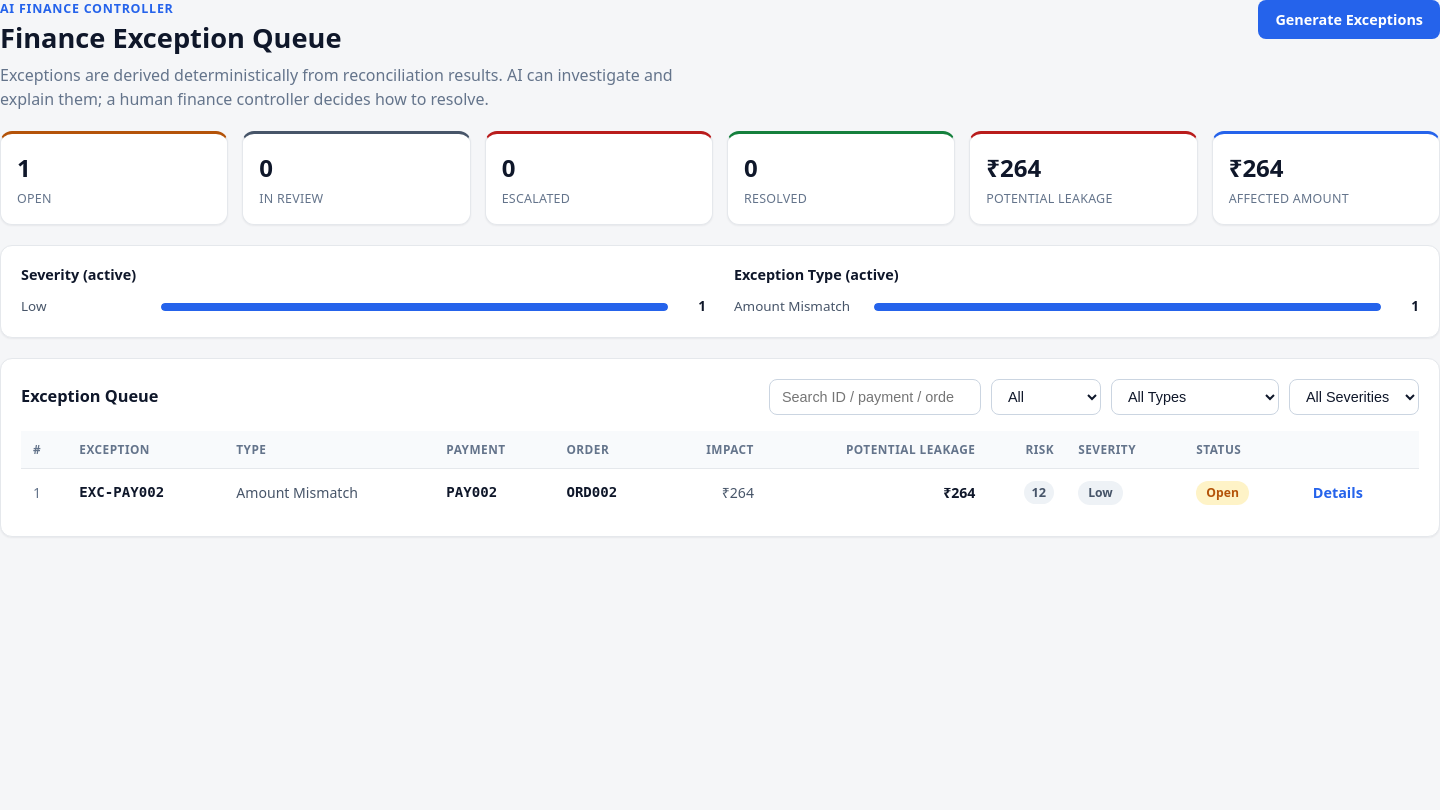
Scenario: Finance Exception Queue › runs AI investigation and shows the advisory recommendation
Expected: the column heading "EXC-PAY002" is shown, left=67, top=469, right=224, bottom=516
Click the button "Details" at point(1338, 493), box left=1307, top=479, right=1369, bottom=506
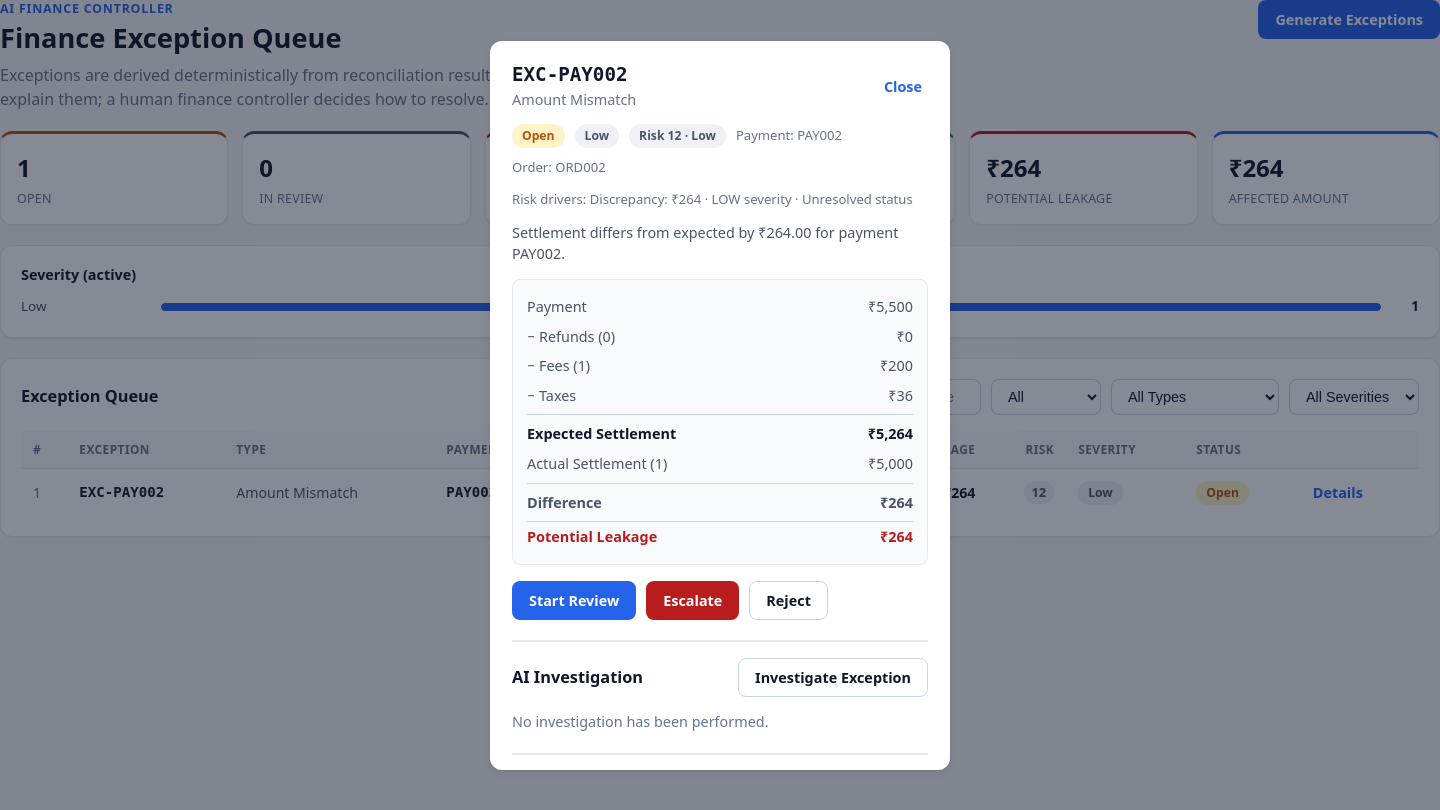
Click the button "Investigate Exception" at point(833, 677), box left=738, top=658, right=928, bottom=697
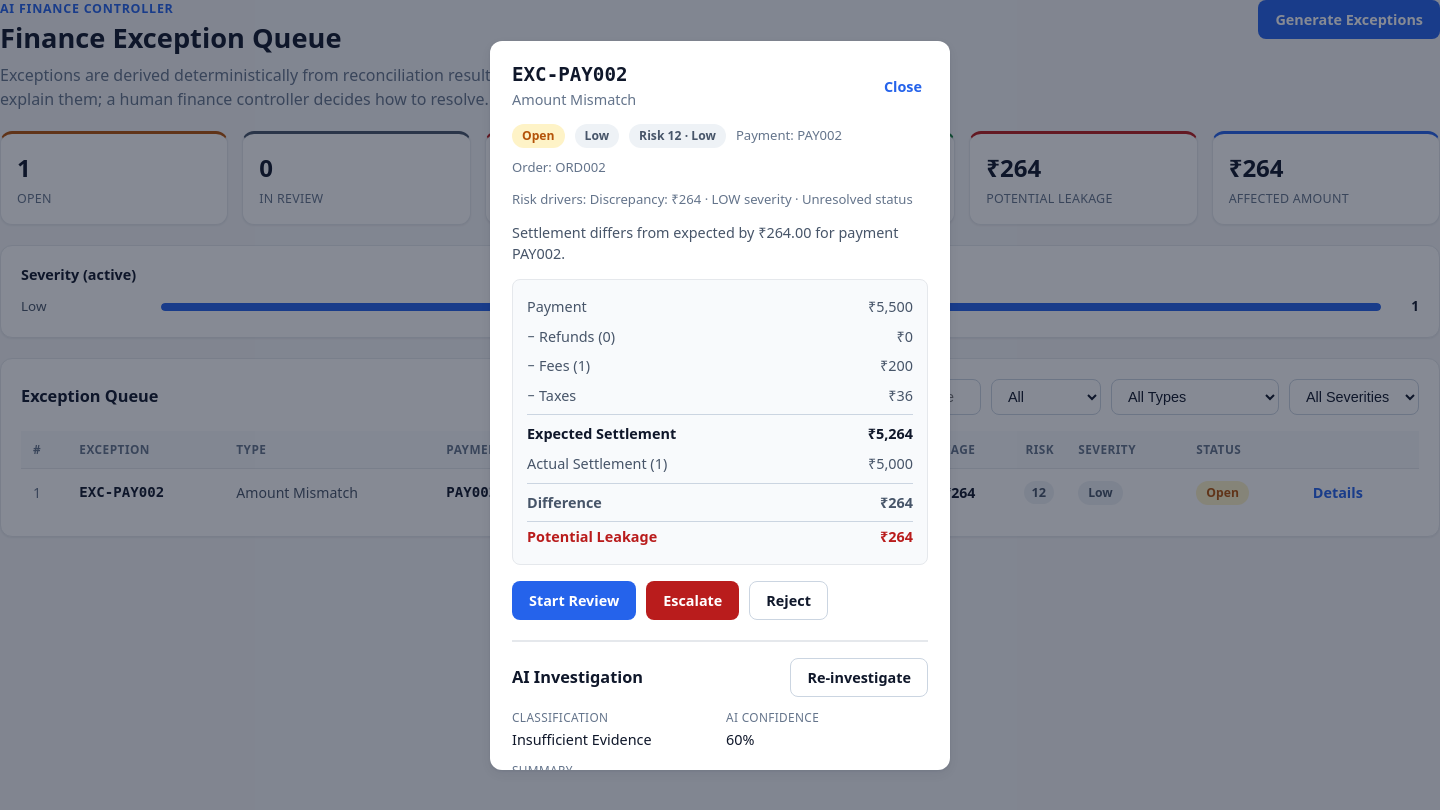
Expected: the button "Start Review" is shown, left=512, top=581, right=636, bottom=620
Expected: the text "Insufficient Evidence" is shown, left=512, top=730, right=652, bottom=749
Expected: the text "60%" is shown, left=726, top=730, right=754, bottom=749
